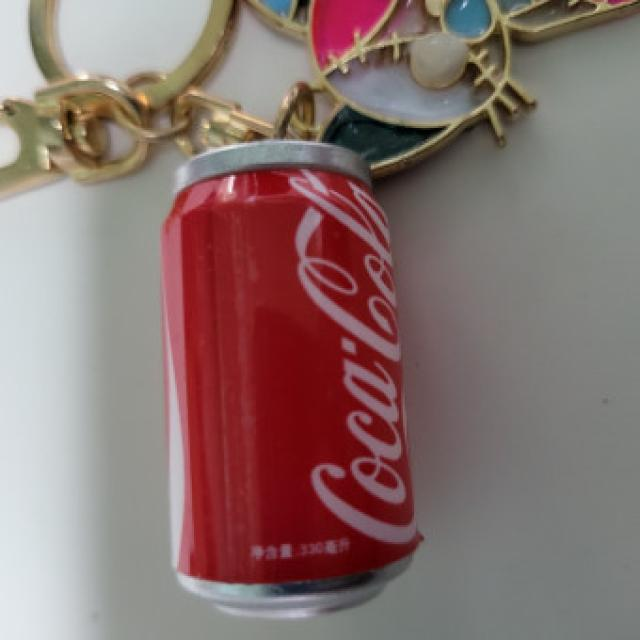can: (162, 135, 421, 618)
